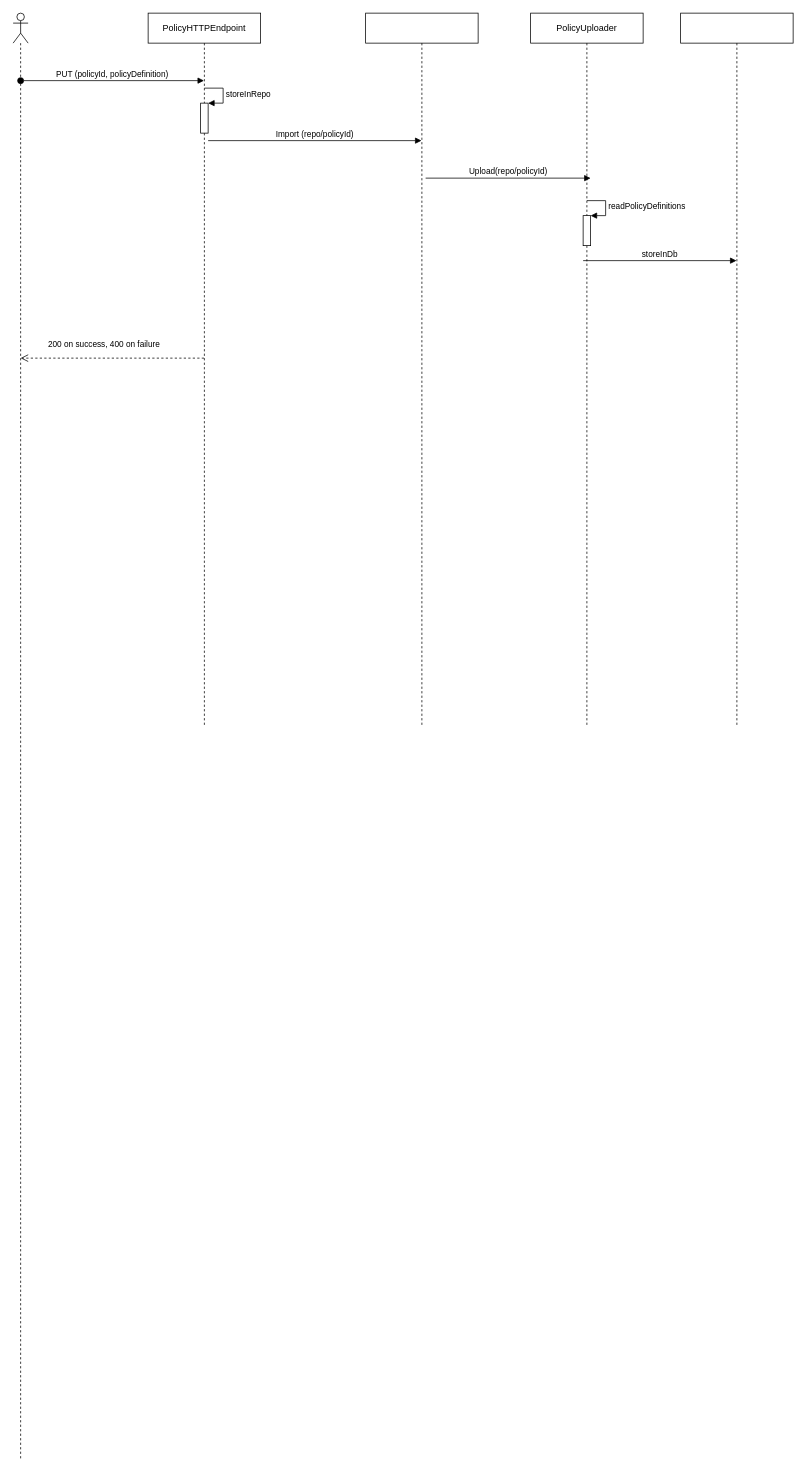
This 806x1474 diagram has some shape labels left out. The box of each missing label's shape, as (x1, y1, x2, y2) in pixels:
HarborPolicyDB: (680, 12, 793, 726)
PolicyImporter: (365, 12, 478, 726)
